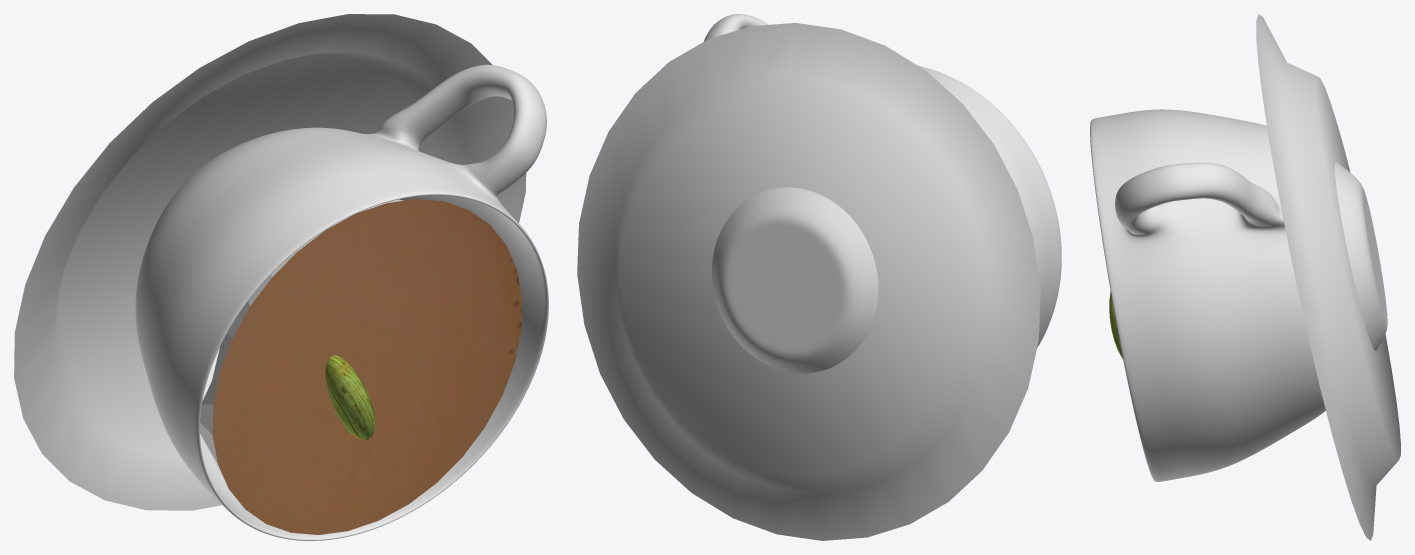
The model's file is karak.glb.
3 renders of one model, left to right at view 1: azimuth 30°, elevation 25°; view 2: azimuth 150°, elevation 25°; view 3: azimuth 270°, elevation 25°, orthographic. The views are drawn at different scales.
Visible parts, largest first — view 1: Circle.002, coffee.001, Cylinder, Sphere; view 2: Circle.002, Cylinder; view 3: Cylinder, Circle.002.
Part boxes in pixels (x1,y1,x2,y2): Circle.002: [14, 14, 526, 510]; coffee.001: [200, 199, 522, 534]; Cylinder: [135, 64, 548, 540]; Sphere: [325, 355, 375, 439]; Circle.002: [577, 23, 1040, 540]; Cylinder: [704, 14, 1061, 373]; Cylinder: [1090, 109, 1387, 481]; Circle.002: [1256, 14, 1400, 540].
Size of the model in its own units: 2.89 by 2.83 by 1.67.
4 materials, 2 textured.
